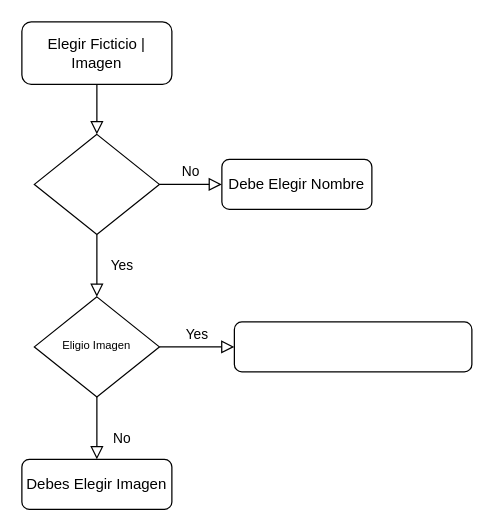
This 494x531 diagram has some shape labels left out. Each missing label, with the centre of its shape:
"Eligio Nombre" goes at [96,183].
"Redirigir a Home" goes at [352,346].
